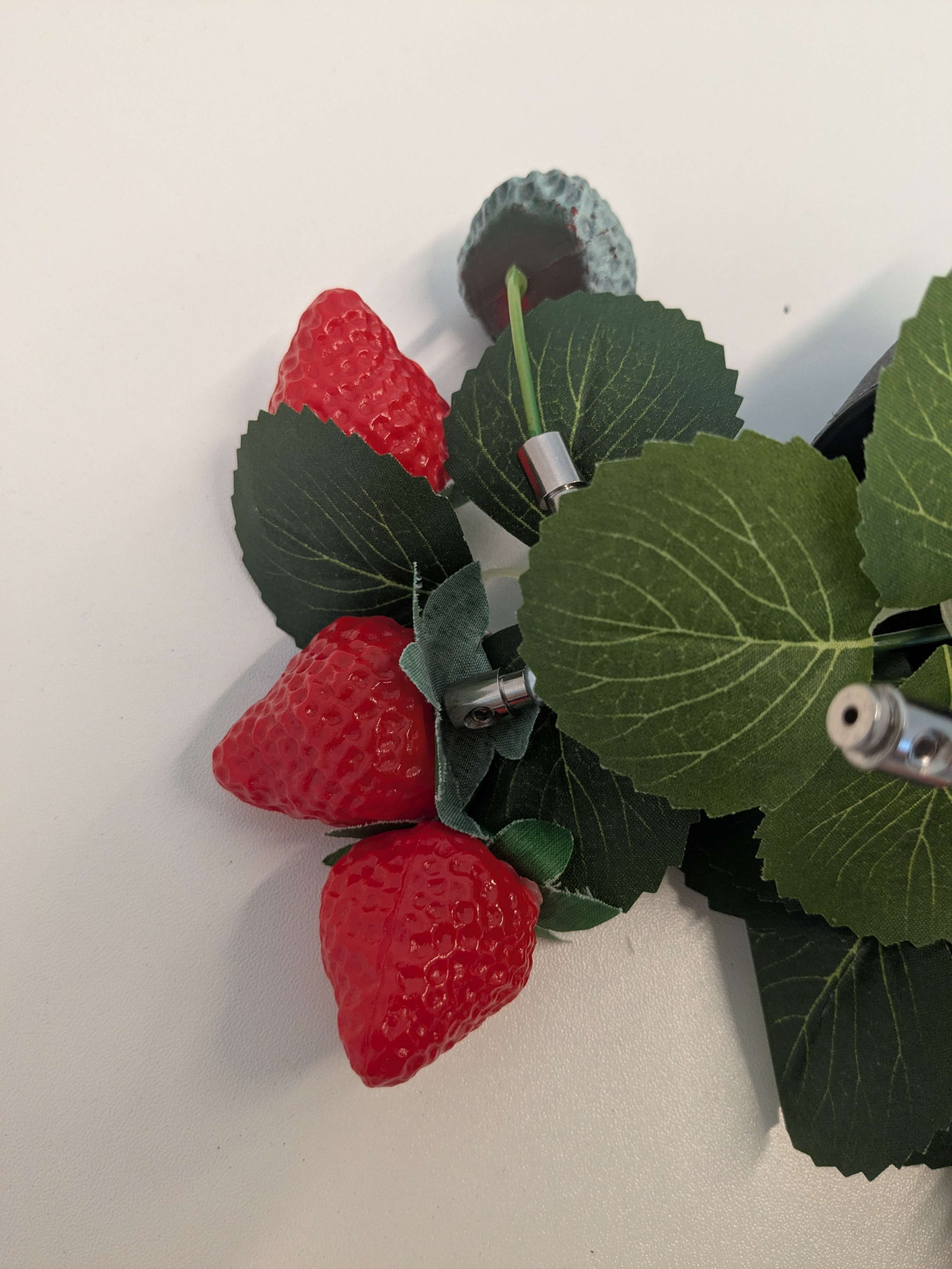Strawberry: (316, 817, 545, 1105), (190, 616, 456, 837), (249, 248, 456, 524)
